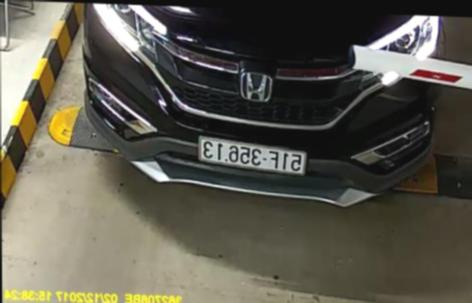License_Plate: (195, 137, 309, 174)
